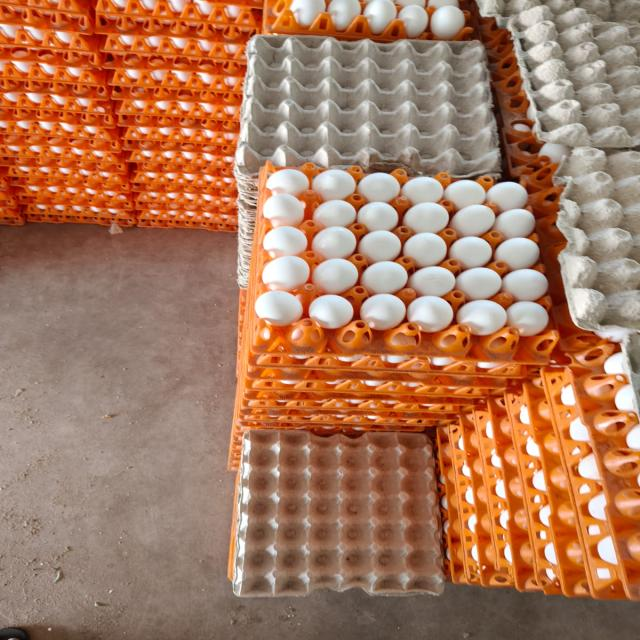egg_tray: (235, 36, 500, 288), (249, 167, 556, 363), (438, 384, 623, 598), (237, 36, 500, 178), (232, 430, 444, 596), (236, 344, 517, 429), (543, 354, 639, 599), (521, 370, 624, 598), (110, 59, 243, 231), (110, 60, 243, 230), (509, 378, 598, 597), (111, 69, 241, 216), (107, 36, 244, 175), (543, 371, 626, 598), (508, 6, 639, 148), (229, 389, 457, 470), (507, 378, 591, 596), (437, 411, 537, 590), (249, 36, 487, 110), (0, 94, 134, 224), (477, 16, 570, 192), (450, 410, 539, 591), (478, 16, 571, 188), (110, 56, 244, 175), (109, 58, 244, 171), (230, 394, 459, 460), (557, 147, 639, 330), (0, 110, 134, 221), (450, 409, 531, 590), (478, 17, 569, 177), (241, 370, 521, 420), (242, 372, 520, 420), (474, 398, 541, 592), (245, 354, 538, 396), (244, 358, 524, 401), (450, 408, 517, 586), (242, 380, 504, 424), (234, 386, 483, 432), (505, 390, 561, 594), (0, 143, 135, 226), (449, 414, 512, 586), (461, 408, 521, 588), (245, 352, 539, 388), (234, 391, 474, 434), (238, 388, 483, 430), (118, 114, 238, 197), (115, 94, 241, 172), (478, 17, 539, 177), (476, 16, 535, 177), (247, 353, 531, 386), (263, 0, 473, 42), (0, 120, 126, 189), (228, 421, 400, 471), (0, 111, 125, 172), (0, 110, 121, 170), (132, 161, 236, 230), (245, 378, 519, 404), (497, 91, 570, 188), (10, 159, 133, 216), (237, 403, 474, 432), (100, 27, 256, 71), (234, 406, 474, 434), (438, 421, 479, 584), (243, 385, 500, 411), (95, 0, 262, 39), (131, 159, 236, 217), (234, 407, 459, 434), (123, 116, 237, 169), (492, 78, 553, 177), (109, 60, 246, 102), (0, 60, 110, 109), (15, 170, 132, 216), (0, 144, 127, 186), (502, 113, 570, 190), (436, 426, 469, 584), (551, 301, 626, 370), (131, 164, 236, 212), (134, 183, 237, 230), (570, 342, 637, 414), (13, 178, 133, 218), (114, 93, 241, 129), (0, 23, 103, 67), (115, 94, 239, 130), (0, 60, 110, 99), (476, 0, 639, 26), (134, 190, 236, 230), (0, 142, 127, 174), (0, 92, 114, 127), (0, 120, 122, 152), (0, 118, 121, 150), (122, 123, 236, 156), (122, 121, 239, 152), (21, 194, 135, 225), (431, 428, 454, 581), (0, 2, 94, 39), (23, 196, 135, 226), (7, 165, 130, 192), (16, 183, 134, 211), (135, 200, 237, 232), (554, 305, 608, 365), (472, 6, 516, 79), (0, 39, 103, 69), (134, 191, 235, 221), (126, 147, 232, 174), (131, 169, 236, 196), (0, 0, 92, 30), (22, 202, 134, 226), (135, 206, 237, 232), (23, 204, 135, 226), (472, 6, 512, 64), (135, 190, 234, 213), (473, 8, 512, 64), (572, 350, 626, 388), (573, 0, 639, 24), (1, 0, 91, 16), (2, 0, 91, 16), (227, 473, 240, 581), (0, 172, 23, 224), (622, 333, 639, 397), (57, 123, 100, 146), (236, 288, 247, 370), (227, 422, 244, 472), (227, 428, 243, 472), (549, 542, 580, 564), (0, 208, 25, 225), (501, 427, 513, 456), (210, 157, 229, 173), (0, 170, 12, 195), (130, 150, 172, 157), (580, 478, 593, 499), (618, 386, 630, 407), (135, 165, 154, 178), (175, 103, 197, 114), (238, 354, 247, 380), (605, 411, 621, 425), (592, 494, 604, 511), (20, 94, 36, 106), (467, 363, 492, 370), (171, 173, 195, 180), (591, 536, 601, 551), (32, 122, 50, 130), (556, 166, 567, 179), (402, 426, 425, 432), (177, 152, 204, 157), (23, 94, 36, 104), (624, 353, 631, 371), (225, 63, 237, 73), (181, 155, 196, 163), (593, 444, 602, 457), (263, 360, 282, 366), (225, 76, 241, 83), (97, 135, 113, 142), (97, 179, 109, 188), (555, 0, 564, 12), (495, 69, 510, 76), (581, 167, 596, 174), (432, 94, 440, 106), (507, 380, 520, 387), (12, 167, 30, 172), (121, 36, 136, 42), (421, 104, 430, 113), (490, 398, 503, 404), (116, 101, 123, 112), (627, 435, 634, 446), (241, 309, 245, 327), (158, 168, 176, 172), (585, 403, 594, 411), (222, 201, 233, 207), (215, 193, 228, 198), (116, 103, 124, 111), (520, 530, 527, 539), (492, 400, 501, 407), (630, 414, 636, 424), (105, 36, 110, 48), (544, 176, 550, 186), (212, 63, 223, 68), (98, 101, 109, 106), (38, 190, 47, 196), (574, 423, 583, 429), (232, 513, 235, 531), (271, 369, 277, 378), (102, 101, 110, 107), (53, 96, 65, 100), (8, 94, 17, 99), (210, 105, 219, 110), (53, 96, 62, 101), (492, 398, 501, 403), (355, 355, 366, 359), (65, 99, 71, 106), (102, 129, 110, 134), (421, 123, 429, 128), (179, 168, 189, 172), (4, 94, 14, 98), (315, 361, 323, 366), (375, 370, 381, 376), (308, 358, 313, 365), (207, 68, 215, 72), (188, 103, 198, 106), (141, 101, 145, 108), (228, 568, 231, 577), (86, 36, 99, 38), (429, 421, 434, 426), (623, 425, 628, 430), (143, 48, 148, 53), (557, 3, 562, 8), (412, 359, 417, 364), (31, 209, 37, 213), (385, 96, 389, 102), (307, 96, 313, 100), (160, 223, 168, 226), (131, 100, 139, 103), (116, 60, 122, 64), (467, 487, 471, 493), (240, 366, 243, 373), (465, 407, 472, 410), (229, 45, 236, 48), (590, 3, 593, 10), (494, 399, 501, 402), (243, 345, 246, 352), (241, 290, 245, 295), (143, 173, 148, 177), (212, 166, 217, 170), (147, 101, 152, 105), (517, 106, 521, 111), (522, 367, 527, 371), (515, 538, 517, 548), (464, 380, 469, 384), (517, 0, 526, 2), (275, 356, 284, 358), (365, 357, 374, 359), (497, 544, 501, 548), (118, 194, 126, 196), (516, 97, 520, 101), (566, 394, 570, 398), (451, 381, 455, 385), (174, 194, 190, 195), (240, 68, 243, 73), (261, 100, 266, 103), (73, 99, 78, 102), (227, 183, 230, 188), (467, 407, 472, 410), (527, 3, 530, 8), (216, 198, 221, 201), (243, 336, 245, 343), (218, 186, 225, 188), (230, 466, 233, 470), (555, 353, 559, 356), (218, 194, 224, 196), (118, 188, 122, 191), (233, 220, 236, 224), (179, 160, 185, 162), (297, 101, 303, 103), (502, 581, 508, 583), (498, 580, 501, 584), (210, 105, 214, 108), (462, 2, 466, 5), (550, 7, 554, 10), (605, 430, 609, 433), (446, 362, 449, 366), (339, 356, 345, 358), (361, 373, 365, 376), (449, 487, 452, 491), (505, 418, 508, 422), (243, 329, 245, 334), (205, 42, 210, 44), (231, 150, 233, 155), (76, 104, 81, 106), (570, 468, 572, 473), (569, 462, 571, 467), (228, 127, 233, 129), (525, 539, 527, 544), (495, 366, 500, 368), (515, 365, 520, 367), (443, 359, 448, 361), (408, 383, 413, 385), (513, 460, 515, 465), (274, 423, 277, 426), (30, 127, 33, 130), (111, 43, 114, 46), (220, 185, 223, 188), (379, 371, 382, 374), (274, 371, 277, 374), (456, 408, 459, 411), (162, 170, 166, 172), (206, 193, 210, 195), (343, 358, 351, 359), (505, 365, 509, 367), (610, 345, 612, 348), (554, 154, 556, 157), (89, 163, 91, 166), (432, 115, 434, 118), (596, 20, 599, 22), (233, 180, 234, 186), (524, 170, 527, 172), (190, 170, 193, 172), (583, 148, 586, 150), (577, 148, 580, 150), (565, 6, 567, 9), (445, 439, 447, 442), (358, 376, 361, 378), (323, 358, 325, 361), (423, 422, 426, 424), (149, 224, 154, 225), (240, 374, 242, 376), (43, 168, 47, 169), (10, 116, 14, 117), (31, 94, 33, 96), (474, 3, 476, 5), (55, 180, 57, 182), (209, 64, 211, 66), (200, 111, 202, 113), (602, 515, 603, 519), (203, 184, 205, 186), (149, 169, 153, 170), (610, 345, 612, 347), (201, 192, 203, 194), (510, 101, 512, 103), (501, 82, 503, 84), (360, 358, 362, 360), (413, 382, 415, 384), (162, 194, 166, 195), (461, 452, 463, 454), (232, 524, 233, 527), (69, 103, 72, 104), (234, 221, 235, 224), (538, 0, 541, 1), (487, 582, 490, 583), (481, 582, 484, 583), (205, 173, 208, 174), (192, 74, 195, 75), (211, 194, 214, 195), (138, 48, 141, 49), (227, 183, 230, 184), (403, 358, 406, 359), (430, 381, 433, 382), (504, 489, 507, 490), (562, 360, 564, 361), (138, 172, 140, 173), (318, 365, 320, 366), (363, 403, 365, 404), (474, 3, 476, 4), (345, 105, 347, 106), (186, 172, 188, 173), (162, 156, 163, 158), (596, 394, 598, 395), (234, 222, 235, 224), (150, 169, 152, 170), (600, 152, 602, 153), (302, 356, 304, 357), (462, 363, 464, 364), (382, 356, 384, 357), (280, 374, 282, 375), (502, 426, 503, 428), (326, 403, 328, 404), (88, 213, 89, 214), (25, 105, 26, 106), (52, 118, 53, 119), (236, 87, 237, 88), (121, 122, 122, 123), (162, 156, 163, 157), (555, 371, 556, 372), (230, 551, 231, 552), (516, 556, 517, 557), (636, 447, 637, 448), (225, 213, 226, 214), (370, 358, 371, 359), (269, 357, 270, 358), (346, 356, 347, 357), (139, 194, 140, 195), (454, 580, 455, 581), (230, 469, 230, 470), (62, 170, 63, 170), (174, 174, 176, 174), (7, 114, 8, 114), (97, 103, 100, 103), (274, 403, 274, 404), (164, 156, 171, 156), (226, 154, 227, 154), (136, 101, 137, 101), (327, 96, 332, 96), (263, 89, 263, 90), (139, 186, 139, 188), (579, 480, 579, 481), (549, 370, 551, 370), (612, 361, 612, 362), (149, 170, 151, 170), (217, 194, 221, 194), (185, 163, 187, 163), (201, 171, 201, 172), (169, 170, 171, 170), (636, 443, 636, 444), (223, 38, 223, 40), (581, 154, 581, 154), (594, 150, 594, 152), (621, 427, 621, 428), (481, 371, 481, 373), (485, 381, 485, 381), (114, 194, 115, 194), (427, 399, 428, 399), (245, 412, 245, 412), (281, 374, 281, 374), (639, 412, 639, 413), (625, 332, 626, 332), (583, 576, 583, 580)
